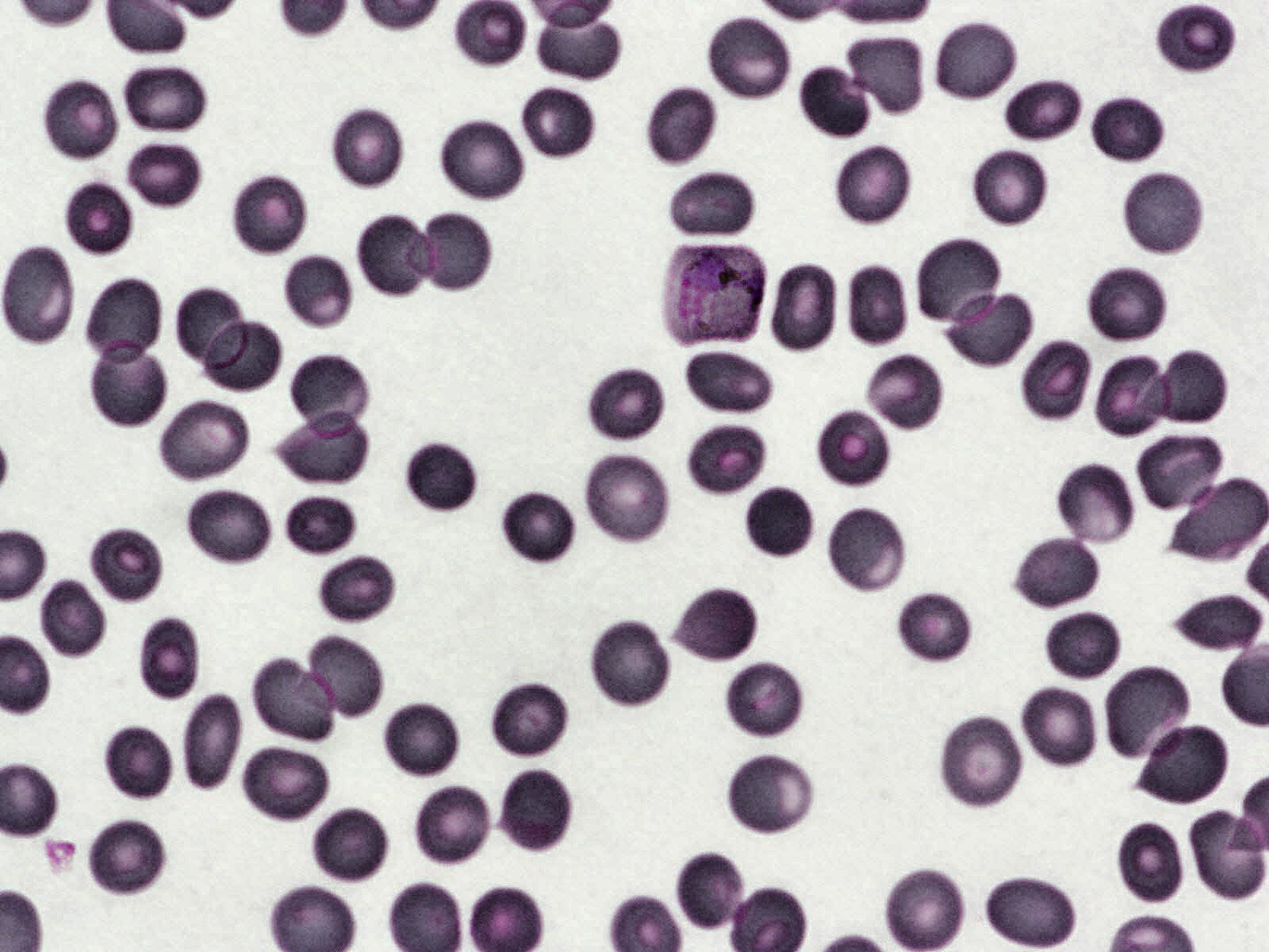Infected: (664, 238, 768, 349)
Uninfected: (1162, 473, 1268, 566), (1103, 662, 1192, 764), (937, 713, 1024, 811), (915, 235, 1003, 330), (1133, 718, 1229, 805), (1117, 165, 1204, 260), (583, 451, 670, 545), (159, 398, 251, 486), (706, 14, 793, 105), (880, 862, 968, 951), (1135, 428, 1225, 515), (297, 634, 383, 722), (727, 753, 818, 836), (588, 618, 670, 710), (87, 336, 165, 431), (438, 120, 526, 204), (1056, 460, 1138, 550), (83, 275, 163, 367), (274, 412, 372, 486), (241, 744, 330, 825), (826, 506, 907, 595), (288, 351, 369, 440), (252, 658, 334, 745), (1094, 351, 1175, 439), (934, 21, 1018, 105), (1190, 814, 1268, 904), (497, 766, 575, 855), (842, 34, 925, 117), (767, 259, 840, 353), (412, 783, 493, 867), (185, 488, 272, 566), (357, 211, 435, 298), (6, 244, 72, 346), (901, 585, 982, 668), (41, 79, 121, 163), (1019, 685, 1098, 770), (182, 691, 246, 795), (984, 878, 1075, 951), (488, 680, 569, 762), (306, 803, 387, 884), (1141, 0, 1233, 71), (86, 816, 166, 897), (413, 211, 491, 294), (673, 586, 757, 663), (230, 171, 305, 257), (1014, 539, 1101, 612), (1087, 267, 1167, 346), (834, 143, 910, 226), (538, 7, 621, 83), (329, 106, 404, 190), (948, 295, 1034, 368), (1020, 337, 1092, 423), (864, 355, 942, 434), (684, 348, 772, 418), (667, 171, 756, 240), (36, 575, 109, 659), (724, 660, 801, 739), (502, 486, 579, 565), (86, 525, 162, 605), (200, 321, 284, 393), (587, 367, 664, 445), (382, 701, 458, 780), (517, 84, 593, 163), (966, 148, 1046, 223), (643, 83, 717, 164), (738, 481, 812, 562), (816, 407, 889, 489), (173, 291, 248, 370), (1152, 345, 1225, 426), (123, 65, 202, 139), (675, 850, 746, 932), (798, 62, 872, 140), (1004, 75, 1083, 148), (688, 421, 763, 497), (63, 178, 134, 258), (125, 139, 201, 213), (319, 553, 393, 629), (136, 617, 200, 704), (1174, 592, 1265, 653), (404, 439, 477, 515), (102, 724, 173, 802), (282, 253, 353, 331), (843, 264, 910, 346), (1045, 611, 1119, 685), (1089, 94, 1164, 167), (284, 491, 355, 563), (1120, 822, 1182, 904)
